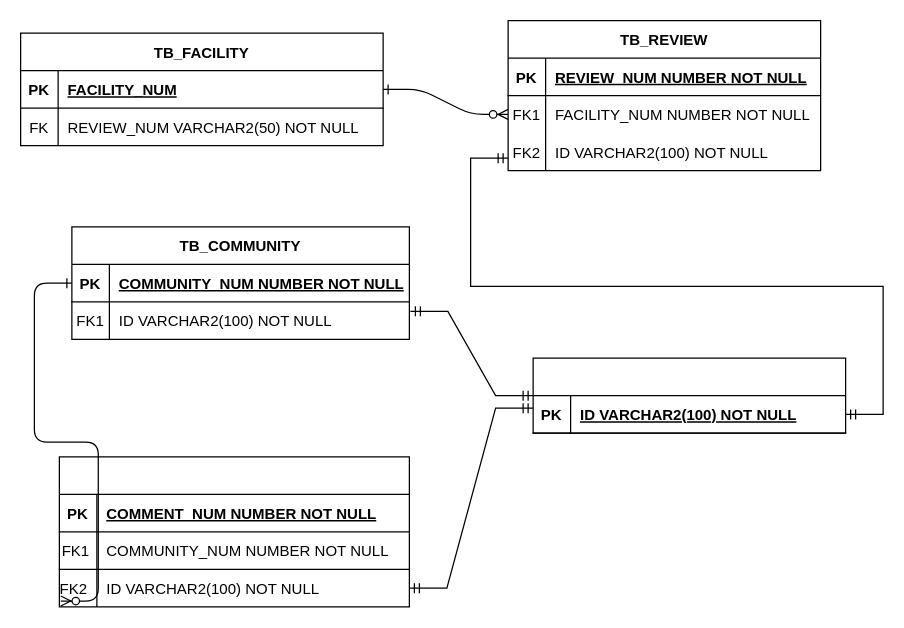
The diagram is 904 pixels wide and 628 high, and some of its shapes have lost their labels. The shapes that lost their labels are listed below. From the top down, each one's box as (x1, y1, x2, y2) in pixels, then its label:
(532, 357, 846, 433): TB_MEMBER
(58, 456, 409, 607): TB_COMMENT
